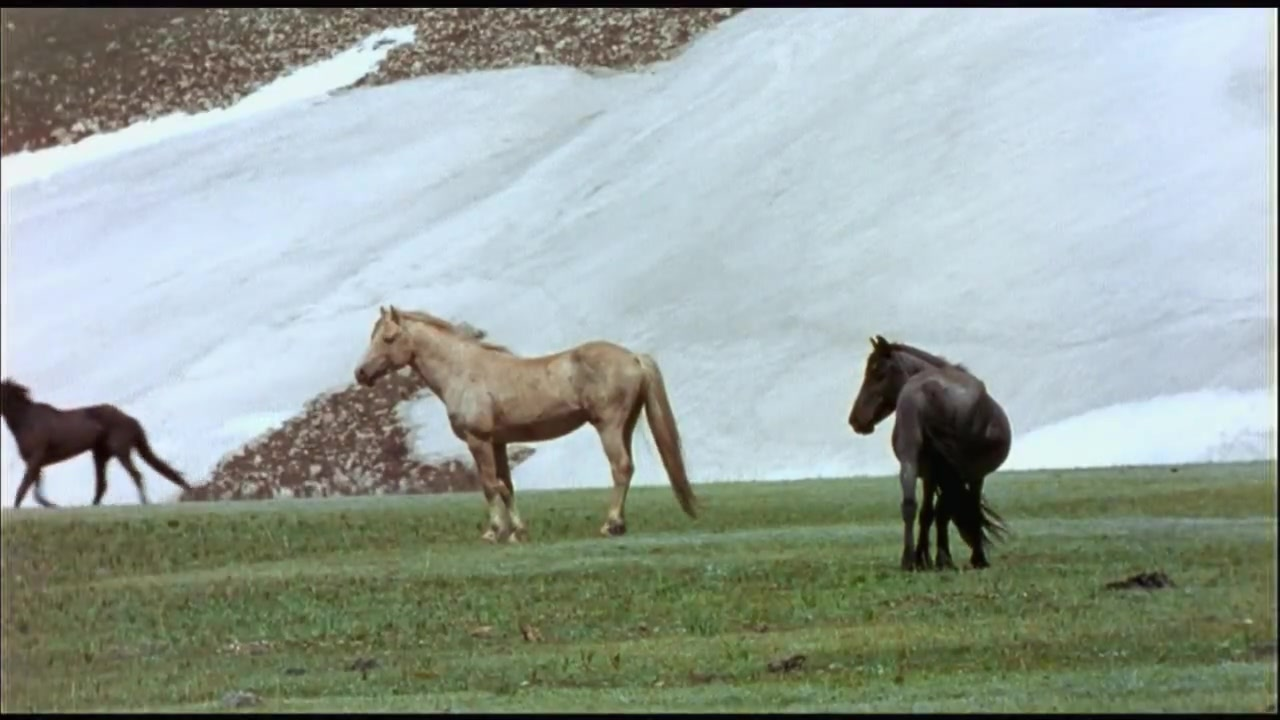horse: (356, 305, 700, 540)
